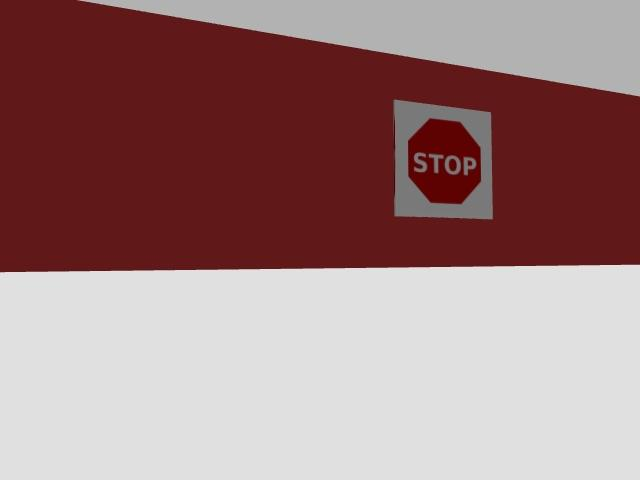stop: (394, 100, 492, 218)
